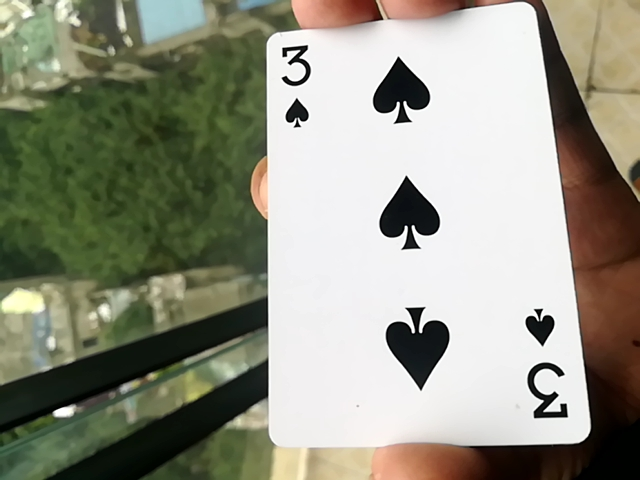ht 3: (243, 17, 594, 451)
